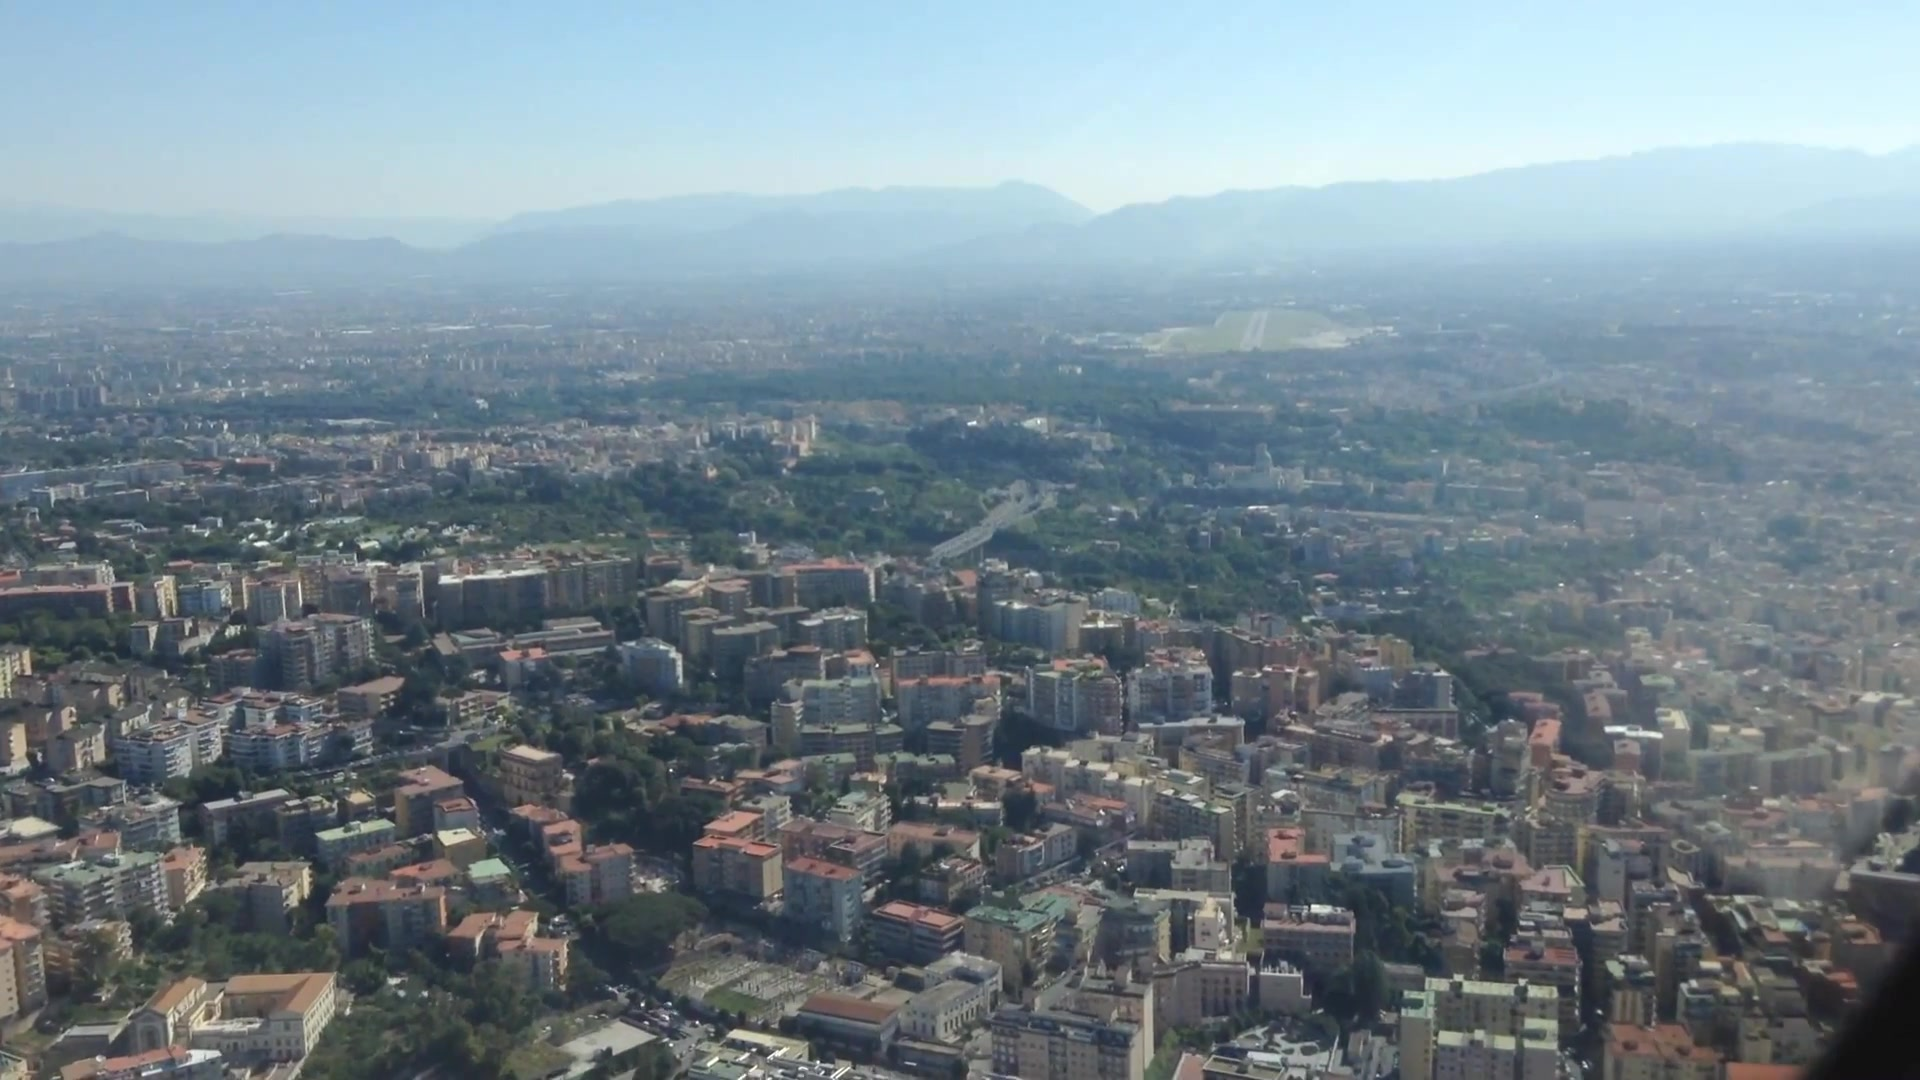runway: (1237, 309, 1271, 349)
